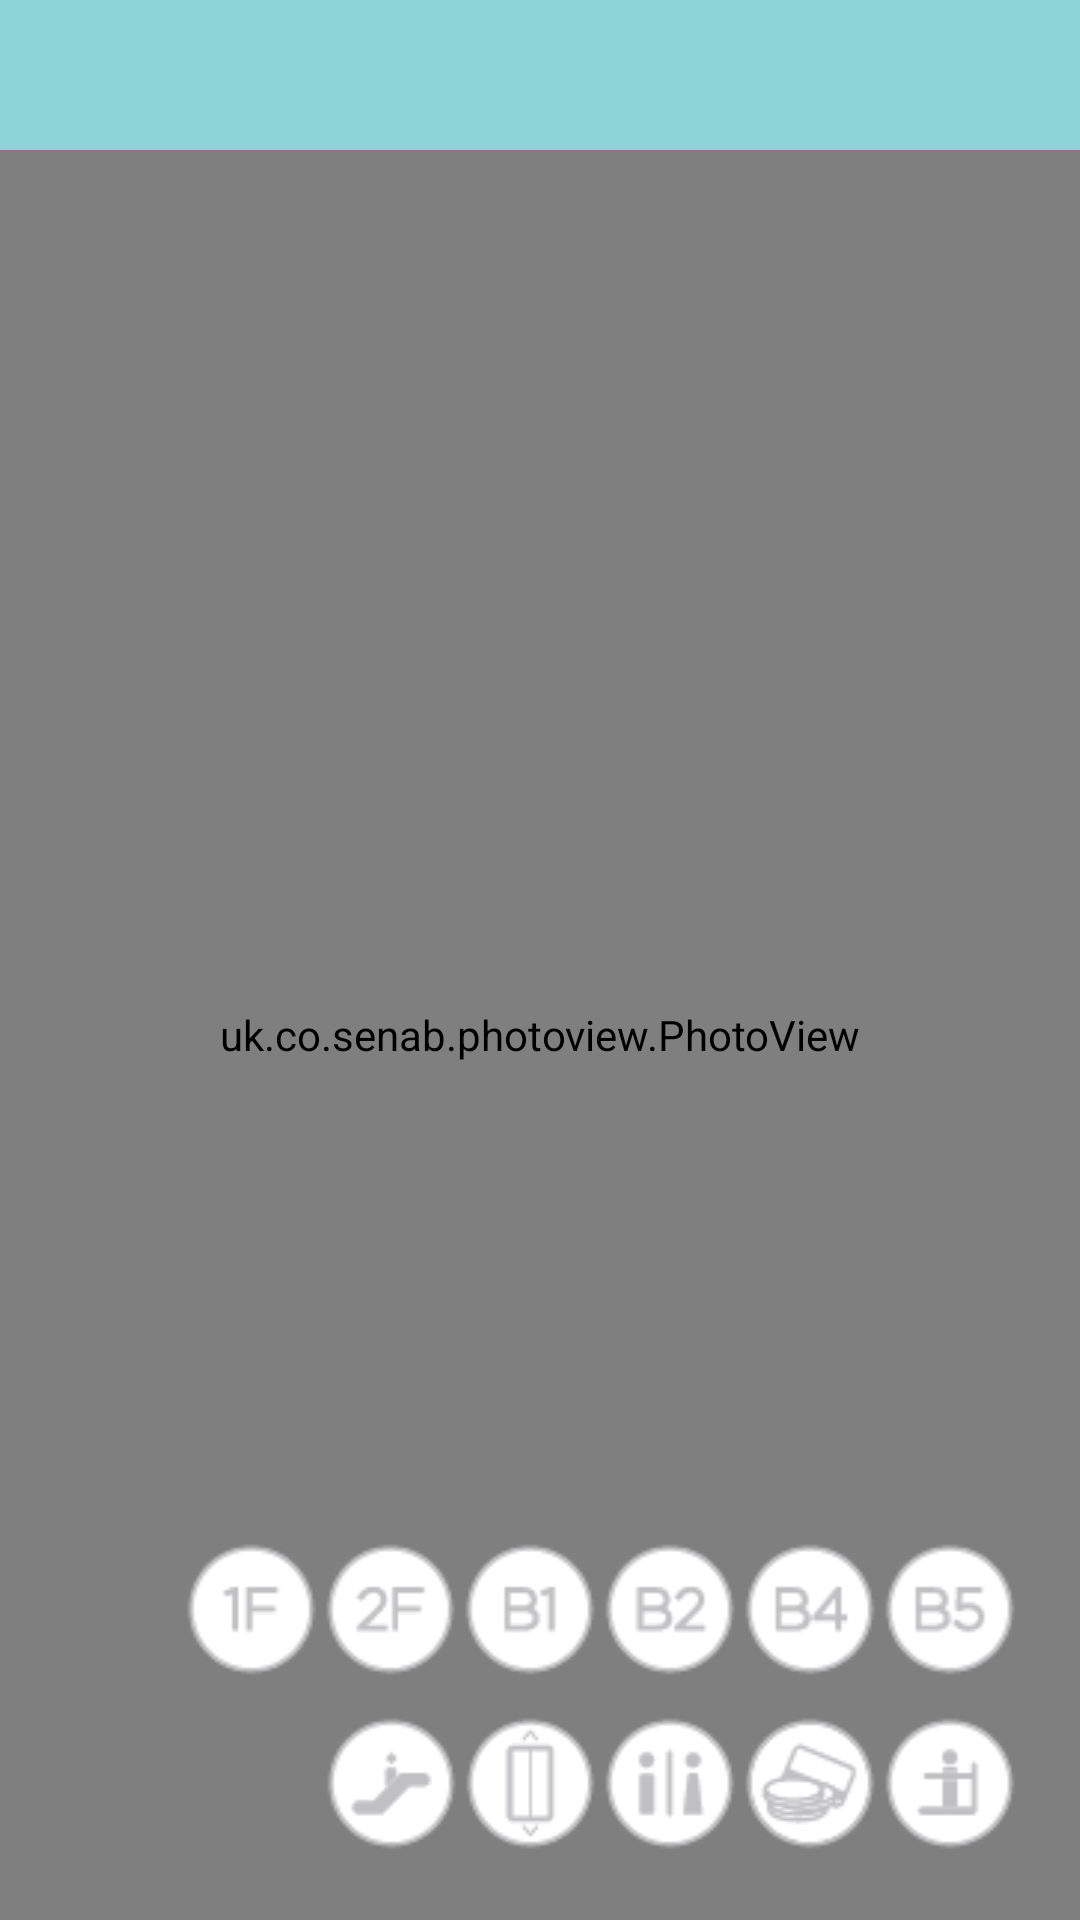

Locate icon controls on the screen. Image size 1080*1920, boxes as rect(x1, y1, x2, y2).
select ele: rect(468, 1720, 593, 1847)
select esc: rect(329, 1720, 454, 1847)
select rest: rect(607, 1720, 733, 1847)
